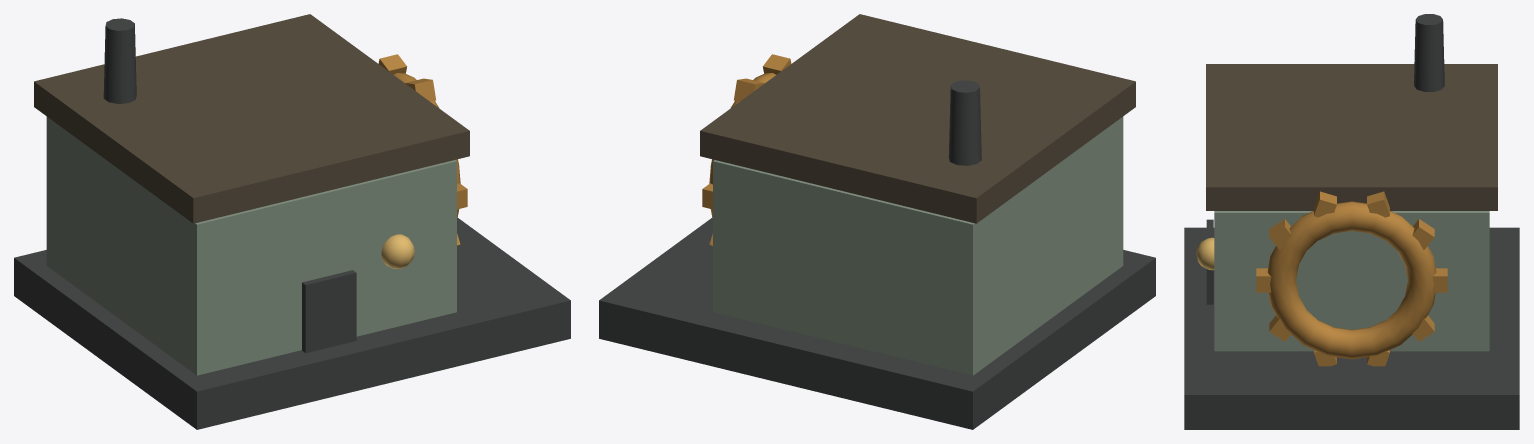
The model's file is gear_workshop.glb.
3 renders of one model, left to right at view 1: azimuth 30°, elevation 25°; view 2: azimuth 150°, elevation 25°; view 3: azimuth 270°, elevation 25°, orthographic. The views are drawn at different scales.
Visible parts, largest first — view 1: main_hall, roof, foundation, door, steam_pipe, core_lamp; view 2: main_hall, roof, foundation, steam_pipe; view 3: roof, foundation, main_hall, gear_large, steam_pipe, core_lamp, tooth_2, tooth_3, tooth_1, tooth_4, door, tooth_0 (+3 smaller).
Part boxes in pixels (x1=…): main_hall: x1=46, y1=116, x2=456, y2=375; roof: x1=34, y1=14, x2=469, y2=223; foundation: x1=14, y1=218, x2=570, y2=429; door: x1=302, y1=270, x2=356, y2=352; steam_pipe: x1=103, y1=18, x2=136, y2=103; core_lamp: x1=381, y1=234, x2=414, y2=268; main_hall: x1=713, y1=116, x2=1123, y2=375; roof: x1=700, y1=14, x2=1135, y2=223; foundation: x1=599, y1=218, x2=1155, y2=429; steam_pipe: x1=948, y1=80, x2=981, y2=165; roof: x1=1206, y1=64, x2=1497, y2=210; foundation: x1=1184, y1=227, x2=1519, y2=429; main_hall: x1=1214, y1=211, x2=1489, y2=351; gear_large: x1=1267, y1=201, x2=1436, y2=359; steam_pipe: x1=1414, y1=14, x2=1444, y2=91; core_lamp: x1=1196, y1=237, x2=1214, y2=270; tooth_2: x1=1314, y1=191, x2=1336, y2=217; tooth_3: x1=1367, y1=191, x2=1389, y2=217; tooth_1: x1=1269, y1=219, x2=1291, y2=249; tooth_4: x1=1412, y1=219, x2=1434, y2=249; door: x1=1206, y1=219, x2=1213, y2=304; tooth_0: x1=1256, y1=268, x2=1271, y2=292.
Size of the model in its own units: 9.2 by 6.9 by 7.8.
